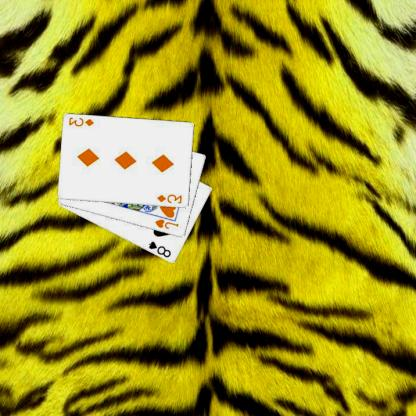3D: (156, 192, 185, 205), (69, 115, 97, 128)
8S: (148, 239, 174, 259)
JH: (154, 216, 181, 231)
